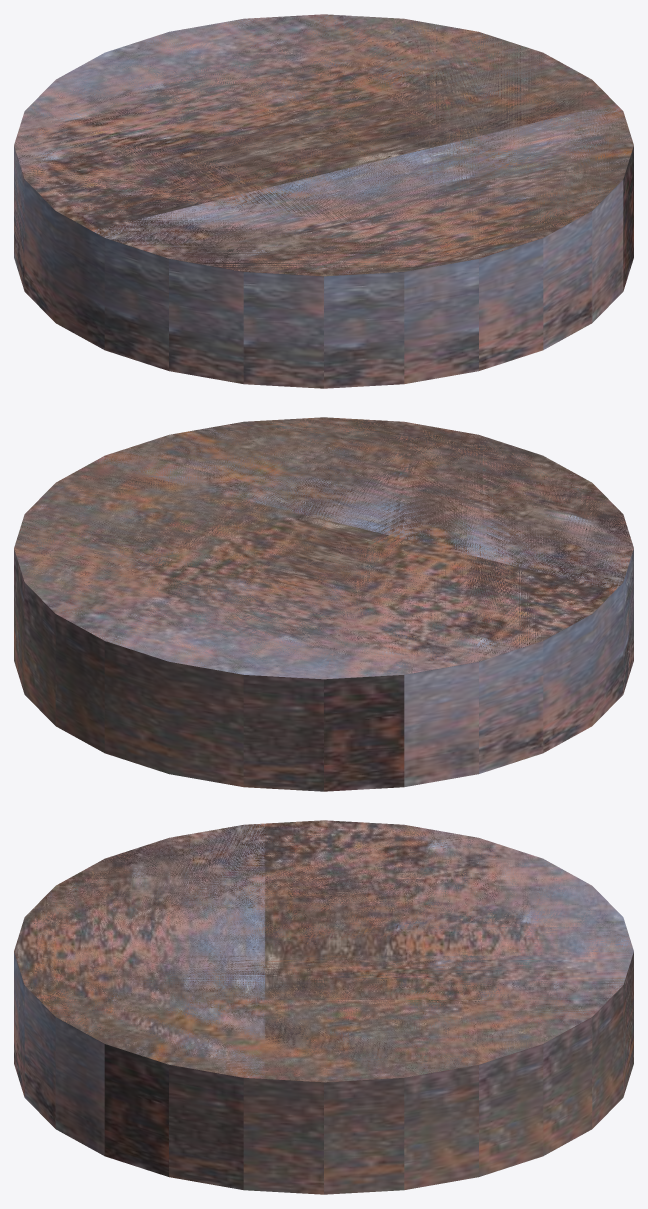
Rendered from circle_copper.fbx.
3 renders of one model, top to bottom at view 1: azimuth 30°, elevation 25°; view 2: azimuth 150°, elevation 25°; view 3: azimuth 270°, elevation 25°, orthographic.
Visible parts, largest first — view 1: Model; view 2: Model; view 3: Model.
Part boxes in pixels (x1,y1,x2,y2): Model: (14,14,633,388); Model: (14,417,633,791); Model: (14,820,633,1194).
Bounding box in the file's own units: 5 × 1 × 5.
